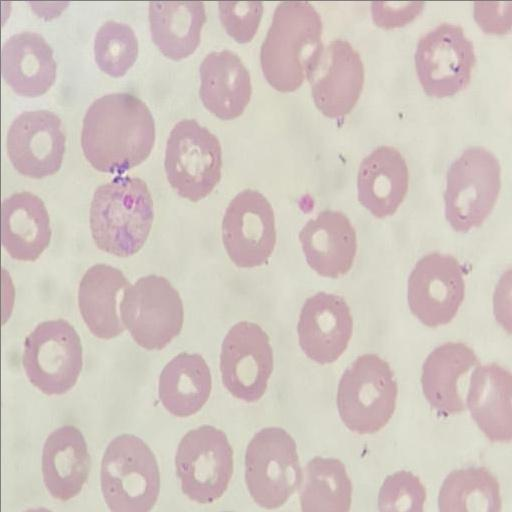Infected: (90, 174, 153, 255)
Uninfected: (80, 92, 155, 170), (259, 3, 323, 93), (163, 119, 224, 202), (174, 424, 235, 504), (442, 146, 500, 230), (119, 274, 183, 349), (335, 355, 397, 432), (100, 433, 162, 510), (244, 426, 302, 506), (22, 319, 83, 394), (414, 24, 475, 97), (407, 252, 466, 327), (307, 40, 363, 119), (420, 342, 478, 418), (221, 190, 278, 267), (6, 108, 66, 179), (220, 322, 274, 400), (77, 263, 130, 340), (297, 293, 353, 364), (298, 210, 356, 277), (357, 145, 410, 218), (40, 426, 90, 500), (2, 31, 58, 97), (198, 50, 252, 118), (465, 363, 512, 441), (159, 354, 214, 418), (0, 191, 51, 260), (149, 2, 206, 60), (93, 21, 140, 77)
